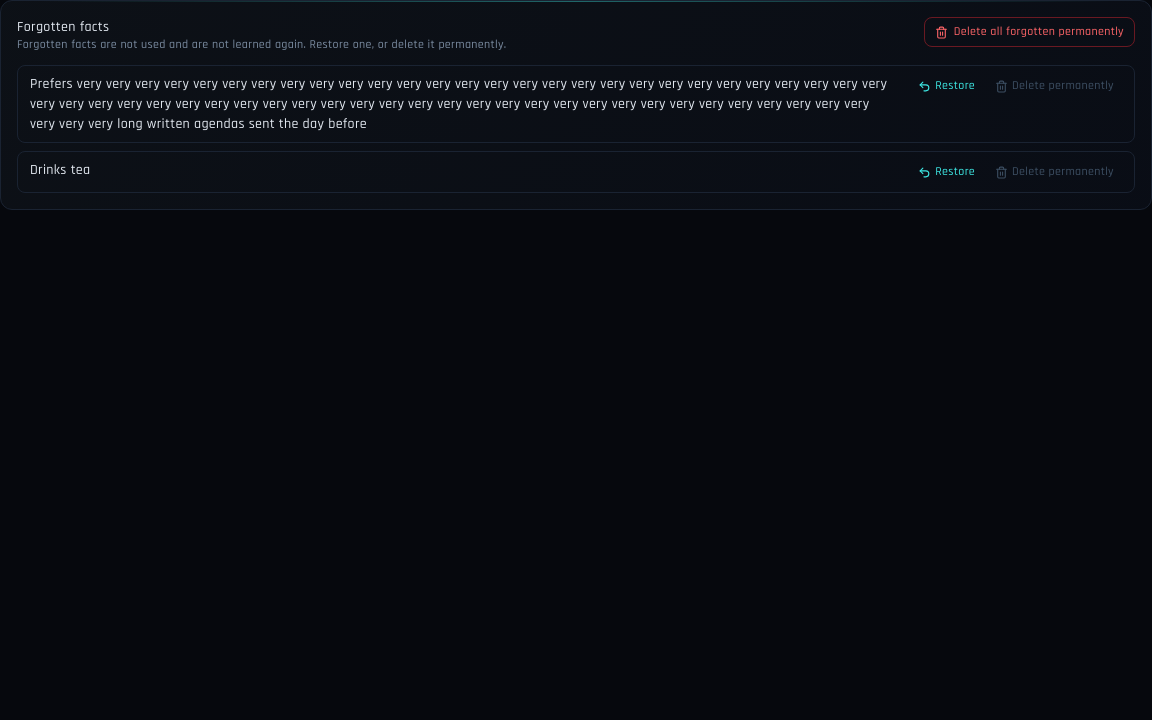
TwinForgottenList › a refused purge or restore says so
Click the button with aria-label "Delete permanently: Drinks tea" at point(1055, 172), box [987,160,1122,184]
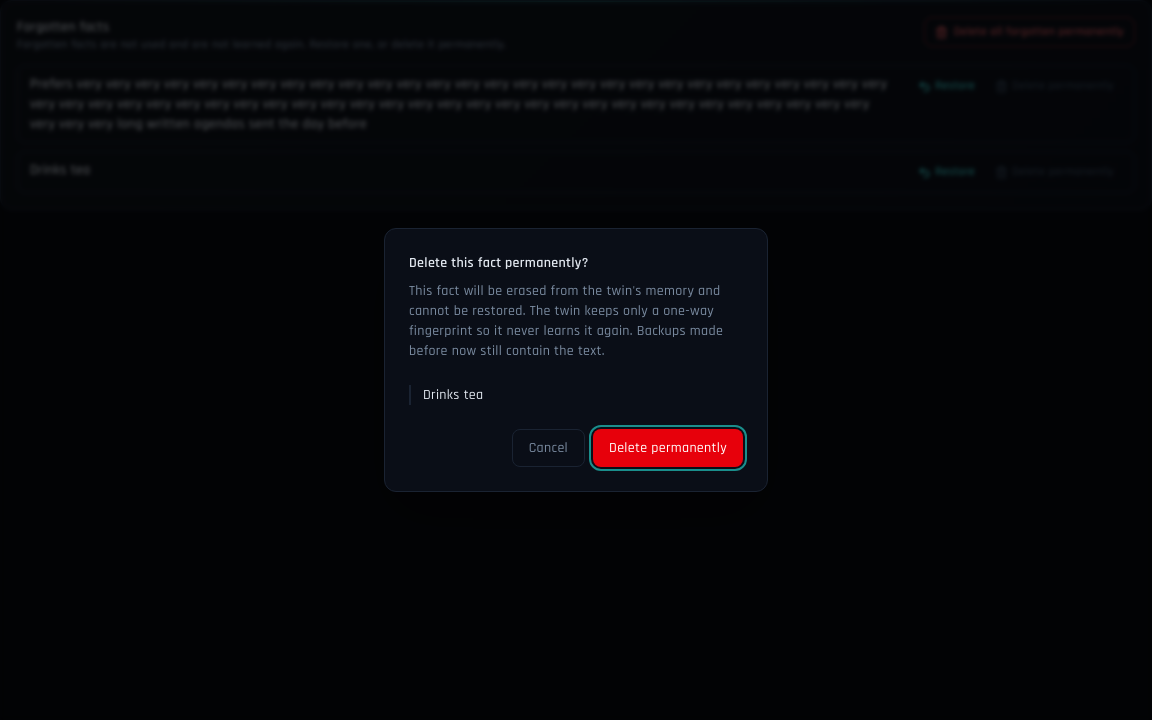
Click the button "Delete permanently" at point(668, 448), box [593,429,743,467]
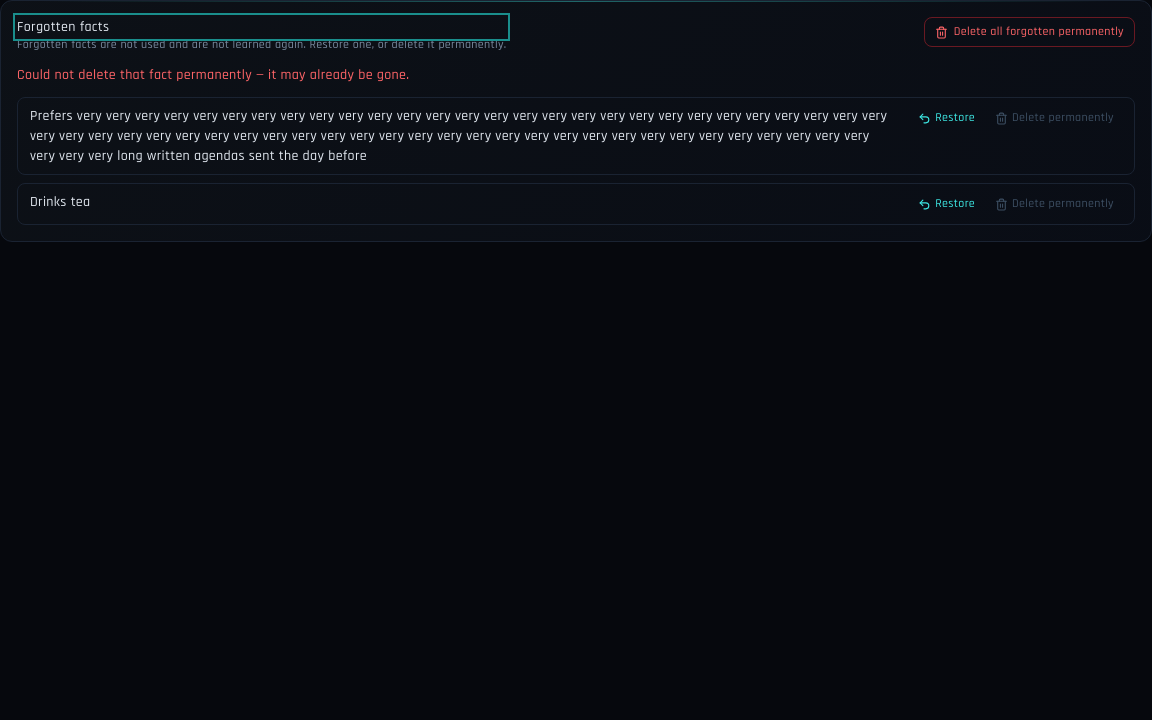
Now the message shows "Could not delete that fact permanently", box [17,66,409,84]
Click the button with aria-label "Restore: Drinks tea" at point(947, 204), box [910,192,983,216]
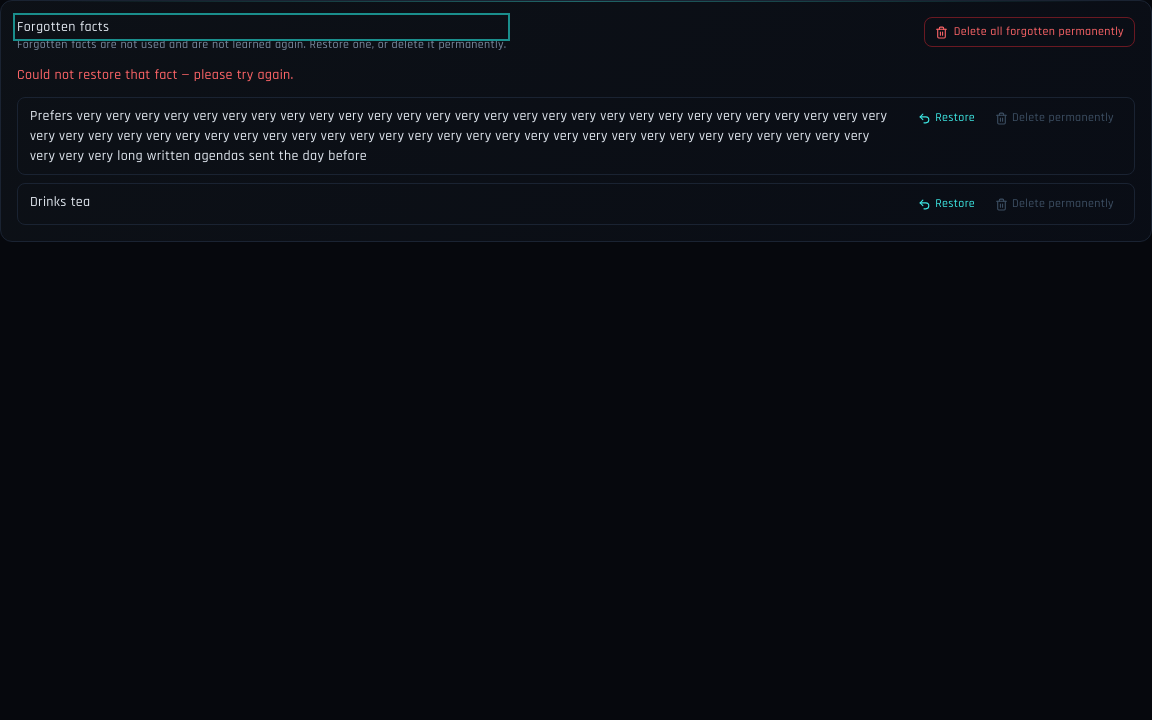
Now the message shows "Could not restore that fact", box [17,66,294,84]
